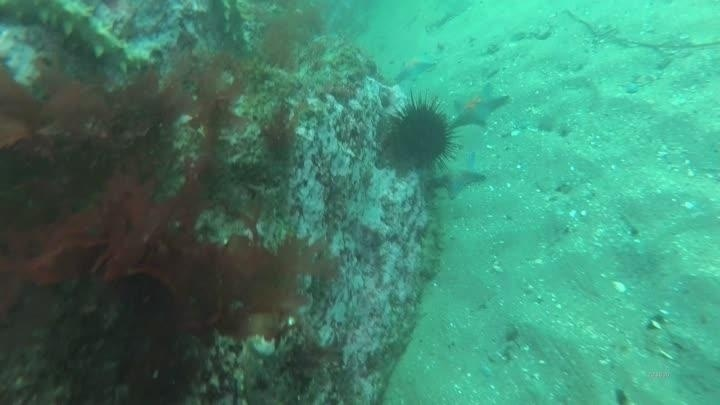echinus: (382, 95, 459, 174)
holothurian: (6, 0, 144, 77), (412, 215, 448, 283)
starfish: (429, 148, 488, 200), (450, 82, 510, 130), (390, 50, 439, 85)
